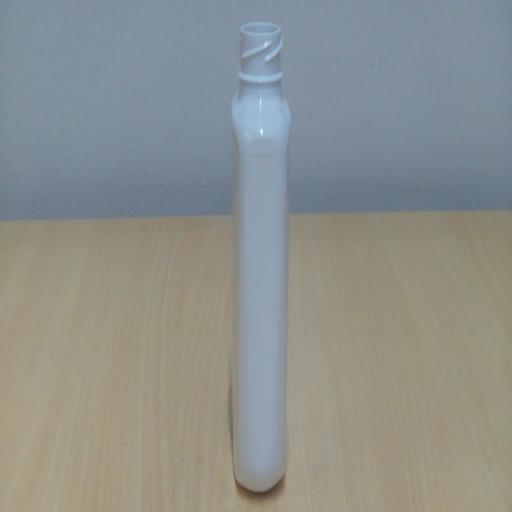Bad: (220, 10, 305, 504)
